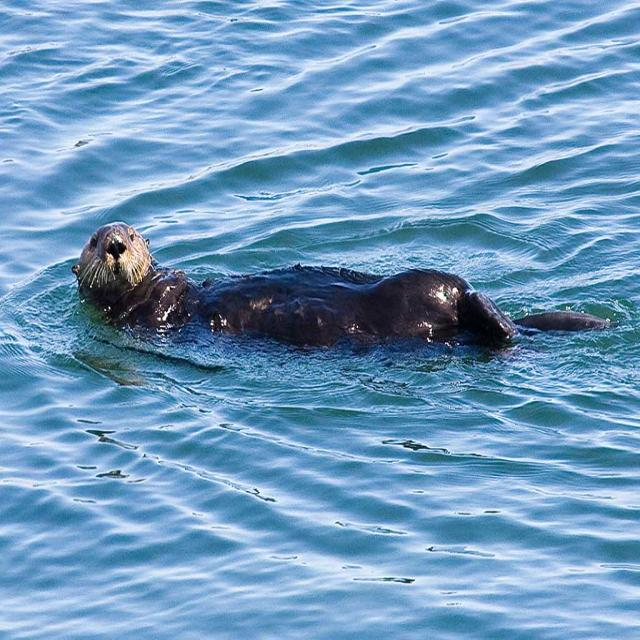otter: (77, 222, 613, 353)
